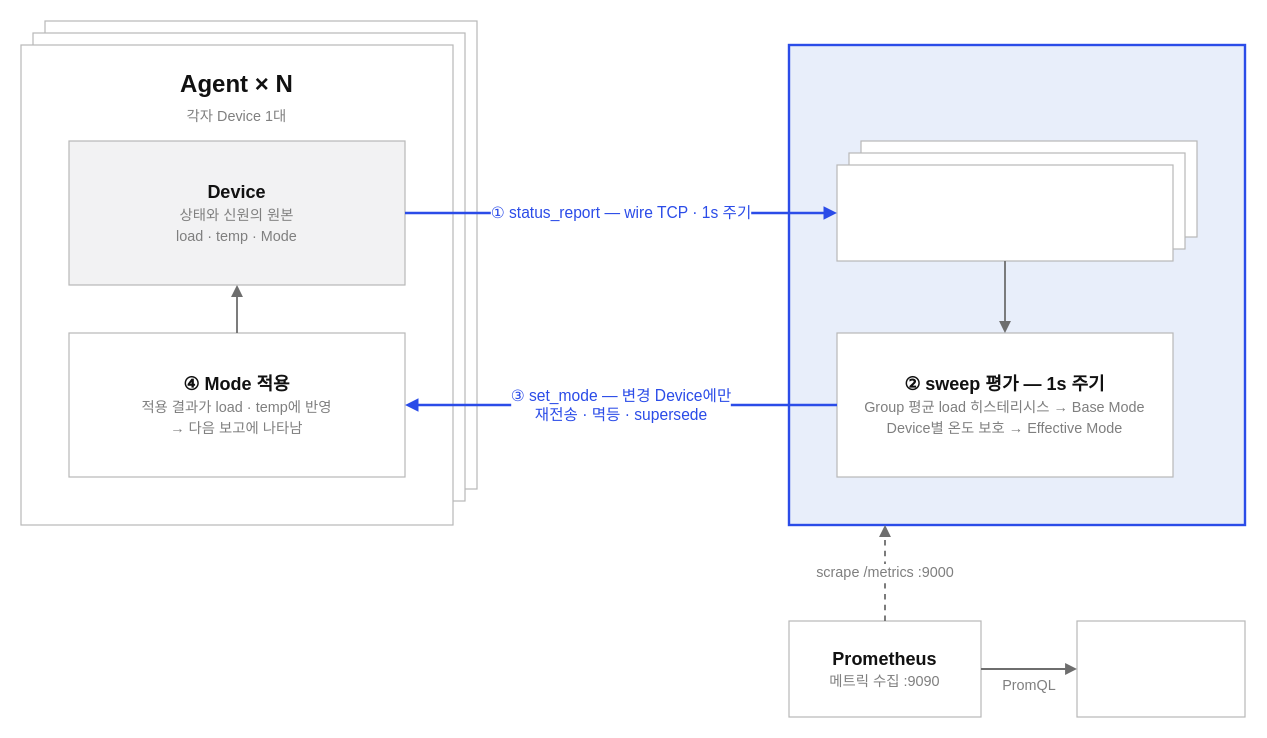
Image size: 1267x738. Some labels were removed from this diagram. The shapes that lost their labels are listed below. From the top down, each one's box as (x1, y1, x2, y2) in pixels, then its label:
(836, 164, 1173, 261): DeviceShadow 메모리 위의 상태 사본 · key = DeviceId
(787, 43, 1246, 526): Controller 싱글 스레드 리액터
(1076, 620, 1245, 717): Grafana 대시보드 :3000
